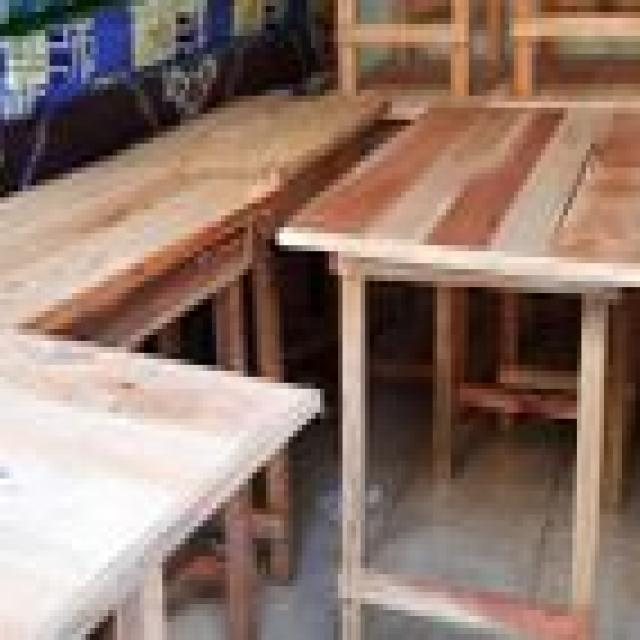others: (4, 6, 636, 634)
